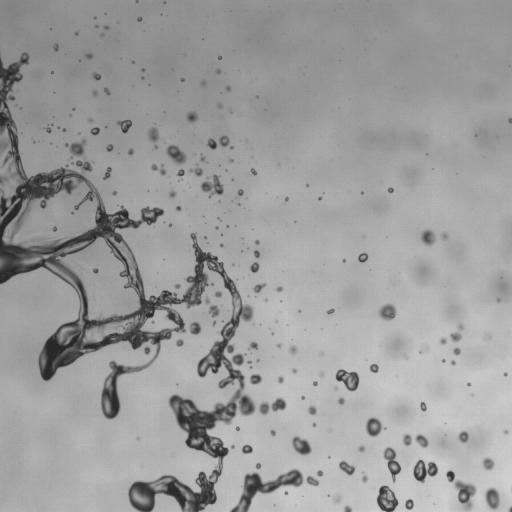droplet: (413, 458, 438, 483), (376, 485, 398, 511), (200, 174, 223, 198), (334, 369, 359, 391), (365, 416, 386, 437), (166, 144, 186, 165), (292, 435, 311, 455), (484, 487, 500, 509), (378, 303, 397, 321), (449, 323, 464, 342), (420, 229, 435, 246), (339, 460, 356, 475), (188, 163, 203, 177), (116, 120, 131, 133), (150, 163, 166, 175), (414, 434, 428, 447), (481, 457, 494, 470), (189, 321, 201, 334), (186, 111, 198, 123), (249, 374, 262, 385), (458, 430, 469, 443), (306, 475, 319, 486), (252, 283, 266, 293), (418, 342, 429, 354), (176, 168, 185, 182), (87, 60, 98, 71), (9, 109, 20, 120), (13, 123, 24, 134), (115, 142, 126, 153), (81, 150, 92, 161), (104, 152, 115, 163), (164, 157, 175, 168), (167, 161, 178, 172), (41, 163, 52, 174), (93, 164, 104, 175), (24, 167, 35, 178), (8, 177, 19, 188), (93, 178, 104, 189), (3, 186, 14, 197), (104, 203, 115, 214), (128, 209, 139, 220), (208, 231, 219, 242), (251, 272, 262, 283), (202, 286, 213, 297), (70, 296, 81, 307), (173, 302, 184, 313), (197, 302, 208, 313), (220, 310, 231, 321), (180, 329, 191, 340), (83, 349, 94, 360), (288, 354, 299, 365), (238, 363, 249, 374), (217, 366, 228, 377), (242, 384, 253, 395), (115, 386, 126, 397), (116, 390, 127, 401), (202, 401, 213, 412), (233, 411, 244, 422), (393, 442, 404, 453), (207, 456, 218, 467), (278, 463, 289, 474), (401, 465, 412, 476), (259, 472, 270, 483), (381, 474, 392, 485), (233, 485, 244, 496), (474, 489, 485, 500), (252, 491, 263, 502), (154, 492, 165, 503), (229, 494, 240, 505), (166, 495, 177, 506), (402, 434, 412, 446), (249, 262, 259, 273), (404, 499, 414, 510), (358, 252, 368, 262), (369, 363, 379, 373), (247, 341, 258, 350), (241, 444, 252, 453), (332, 493, 341, 504), (288, 345, 298, 354), (307, 405, 316, 415), (455, 503, 466, 511), (361, 471, 368, 483), (96, 16, 105, 25), (18, 64, 27, 73), (94, 80, 103, 89), (186, 103, 195, 112), (140, 131, 149, 140), (158, 143, 167, 152), (62, 147, 71, 156), (170, 196, 179, 205), (432, 229, 441, 238), (225, 268, 234, 277), (9, 274, 18, 283), (210, 296, 219, 305), (380, 296, 389, 305), (251, 311, 260, 320), (382, 318, 391, 327), (170, 331, 179, 340), (36, 339, 45, 348), (446, 339, 455, 348), (200, 346, 209, 355), (55, 366, 64, 375), (32, 368, 41, 377), (282, 370, 291, 379), (116, 373, 125, 382), (266, 395, 275, 404), (220, 396, 229, 405), (252, 398, 261, 407), (301, 399, 310, 408), (168, 414, 177, 423), (214, 419, 223, 428), (246, 465, 255, 474), (437, 467, 446, 476), (139, 473, 148, 482), (387, 481, 396, 490), (212, 483, 221, 492), (192, 484, 201, 493), (340, 497, 349, 506), (43, 123, 51, 133), (90, 127, 100, 135), (92, 72, 101, 80), (169, 188, 177, 197), (235, 189, 243, 198), (440, 232, 449, 240), (483, 332, 491, 341), (439, 336, 447, 345), (171, 505, 182, 511), (201, 505, 212, 511), (394, 505, 405, 511), (470, 505, 481, 511), (495, 505, 506, 511), (453, 347, 461, 355), (253, 249, 260, 258), (143, 346, 150, 355), (420, 401, 426, 411), (326, 308, 334, 315), (176, 338, 183, 346), (277, 375, 284, 383), (338, 397, 345, 405), (357, 445, 365, 452), (0, 164, 5, 175), (84, 53, 93, 59), (274, 286, 283, 292), (213, 291, 222, 297), (246, 360, 252, 369), (344, 505, 353, 511), (106, 144, 113, 151), (250, 168, 257, 175), (12, 55, 19, 62), (2, 61, 9, 68), (11, 81, 18, 88), (97, 89, 104, 96), (220, 107, 227, 114), (195, 110, 202, 117), (180, 114, 187, 121), (183, 119, 190, 126), (192, 119, 199, 126), (157, 130, 164, 137), (73, 136, 80, 143), (169, 138, 176, 145), (147, 140, 154, 147), (5, 143, 12, 150), (16, 143, 23, 150), (82, 144, 89, 151), (178, 144, 185, 151), (1, 149, 8, 156), (228, 150, 235, 157), (222, 160, 229, 167), (198, 161, 205, 168), (177, 162, 184, 169), (75, 166, 82, 173), (82, 170, 89, 177), (198, 175, 205, 182), (212, 192, 219, 199), (155, 201, 162, 208), (140, 221, 147, 228), (218, 222, 225, 229), (447, 230, 454, 237), (415, 231, 422, 238), (418, 240, 425, 247), (200, 245, 207, 252), (249, 255, 256, 262), (37, 266, 44, 273), (201, 266, 208, 273), (139, 271, 146, 278), (140, 274, 147, 281), (167, 285, 174, 292), (222, 288, 229, 295), (153, 290, 160, 297), (199, 293, 206, 300), (169, 303, 176, 310), (191, 303, 198, 310), (394, 306, 401, 313), (393, 313, 400, 320), (69, 314, 76, 321), (238, 317, 245, 324), (183, 322, 190, 329), (216, 322, 223, 329), (234, 326, 241, 333), (450, 326, 457, 333), (47, 328, 54, 335), (459, 329, 466, 336), (43, 332, 50, 339), (215, 334, 222, 341), (159, 338, 166, 345), (144, 339, 151, 346), (123, 340, 130, 347), (141, 340, 148, 347), (453, 340, 460, 347), (295, 342, 302, 349), (149, 343, 156, 350), (282, 343, 289, 350), (102, 344, 109, 351), (232, 347, 239, 354), (453, 354, 460, 361), (75, 356, 82, 363), (115, 358, 122, 365), (105, 367, 112, 374), (251, 367, 258, 374), (243, 376, 250, 383), (96, 385, 103, 392), (165, 390, 172, 397), (180, 392, 187, 399), (162, 398, 169, 405), (284, 399, 291, 406), (117, 407, 124, 414), (373, 412, 380, 419), (98, 413, 105, 420), (245, 413, 252, 420), (309, 414, 316, 421), (360, 418, 367, 425), (359, 424, 366, 431), (360, 427, 367, 434), (205, 428, 212, 435), (181, 431, 188, 438), (298, 432, 305, 439), (410, 438, 417, 445), (307, 439, 314, 446), (286, 442, 293, 449), (235, 443, 242, 450), (196, 449, 203, 456), (294, 451, 301, 458), (481, 451, 488, 458), (301, 453, 308, 460), (489, 453, 496, 460), (212, 456, 219, 463), (476, 456, 483, 463), (492, 462, 499, 469), (477, 463, 484, 470), (486, 468, 493, 475), (204, 469, 211, 476), (300, 471, 307, 478), (453, 473, 460, 480), (301, 480, 308, 487), (286, 483, 293, 490), (278, 484, 285, 491), (496, 488, 503, 495), (104, 87, 110, 95), (128, 147, 134, 155), (246, 506, 255, 511), (200, 80, 206, 87), (87, 117, 93, 124), (387, 186, 393, 193), (270, 429, 276, 436), (255, 462, 261, 469), (316, 470, 323, 476), (53, 43, 58, 51), (225, 85, 231, 91), (217, 102, 223, 108), (92, 267, 98, 273), (174, 283, 180, 289), (291, 368, 297, 374), (318, 371, 324, 377), (92, 90, 97, 97), (216, 68, 221, 74), (176, 205, 181, 211), (51, 226, 57, 231), (276, 343, 282, 348), (312, 381, 318, 386), (333, 385, 338, 391), (507, 369, 511, 376), (130, 507, 137, 511), (150, 507, 157, 511), (337, 507, 344, 511), (375, 507, 382, 511), (487, 507, 494, 511), (112, 190, 117, 195), (254, 239, 259, 244), (319, 351, 324, 356), (450, 360, 455, 365), (311, 422, 316, 427), (503, 429, 508, 434), (230, 444, 235, 449), (135, 12, 140, 17), (93, 18, 98, 23), (98, 26, 103, 31), (103, 29, 108, 34), (57, 45, 62, 50), (85, 48, 90, 53), (81, 56, 86, 61), (27, 57, 32, 62), (86, 58, 91, 63), (96, 69, 101, 74), (141, 71, 146, 76), (215, 73, 220, 78), (19, 78, 24, 83), (224, 80, 229, 85), (230, 85, 235, 90), (108, 87, 113, 92), (221, 88, 226, 93), (87, 91, 92, 96), (5, 99, 10, 104), (118, 116, 123, 121), (53, 121, 58, 126), (91, 122, 96, 127), (148, 122, 153, 127), (50, 125, 55, 130), (98, 125, 103, 130), (127, 126, 132, 131), (3, 128, 8, 133), (214, 138, 219, 143), (202, 139, 207, 144), (154, 140, 159, 145), (228, 140, 233, 145), (103, 141, 108, 146), (224, 145, 229, 150), (64, 146, 69, 151), (132, 146, 137, 151), (206, 146, 211, 151), (123, 147, 128, 152), (131, 152, 136, 157), (125, 153, 130, 158), (195, 153, 200, 158), (89, 162, 94, 167), (155, 162, 160, 167), (146, 163, 151, 168), (191, 164, 196, 169), (154, 169, 159, 174), (109, 170, 114, 175), (190, 171, 195, 176), (160, 174, 165, 179), (218, 178, 223, 183), (196, 185, 201, 190), (221, 185, 226, 190), (172, 186, 177, 191), (108, 187, 113, 192), (166, 187, 171, 192), (204, 190, 209, 195), (242, 191, 247, 196), (239, 194, 244, 199), (140, 203, 145, 208), (123, 204, 128, 209), (148, 204, 153, 209), (115, 206, 120, 211), (162, 210, 167, 215), (175, 210, 180, 215), (156, 215, 161, 220), (214, 220, 219, 225), (114, 227, 119, 232), (216, 228, 221, 233), (188, 239, 193, 244), (126, 240, 131, 245), (241, 244, 246, 249), (255, 245, 260, 250), (189, 247, 194, 252), (258, 249, 263, 254), (210, 251, 215, 256), (249, 251, 254, 256), (134, 255, 139, 260), (216, 257, 221, 262), (254, 257, 259, 262), (222, 264, 227, 269), (246, 268, 251, 273), (256, 268, 261, 273), (190, 271, 195, 276), (54, 275, 59, 280), (141, 278, 146, 283), (257, 279, 262, 284), (276, 281, 281, 286), (235, 285, 240, 290), (260, 287, 265, 292), (250, 290, 255, 295), (278, 290, 283, 295), (177, 294, 182, 299), (144, 295, 149, 300), (181, 301, 186, 306), (216, 304, 221, 309), (326, 304, 331, 309), (213, 315, 218, 320), (225, 316, 230, 321), (193, 317, 198, 322), (390, 317, 395, 322), (198, 322, 203, 327), (462, 322, 467, 327), (199, 328, 204, 333), (191, 333, 196, 338), (435, 336, 440, 341), (446, 336, 451, 341), (227, 339, 232, 344), (289, 340, 294, 345), (245, 341, 250, 346), (415, 345, 420, 350), (250, 347, 255, 352), (459, 349, 464, 354), (286, 351, 291, 356), (293, 352, 298, 357), (420, 352, 425, 357), (199, 353, 204, 358), (242, 356, 247, 361), (445, 358, 450, 363), (368, 359, 373, 364), (193, 360, 198, 365), (149, 363, 154, 368), (291, 363, 296, 368), (377, 366, 382, 371), (346, 367, 351, 372), (140, 368, 145, 373), (192, 368, 197, 373), (296, 369, 301, 374), (331, 370, 336, 375), (278, 371, 283, 376), (259, 373, 264, 378), (357, 373, 362, 378), (273, 375, 278, 380), (199, 376, 204, 381), (282, 377, 287, 382), (233, 378, 238, 383), (338, 380, 343, 385), (357, 380, 362, 385), (255, 382, 260, 387), (278, 382, 283, 387), (352, 389, 357, 394), (334, 394, 339, 399), (343, 399, 348, 404), (334, 401, 339, 406), (415, 402, 420, 407), (96, 403, 101, 408), (425, 403, 430, 408), (97, 407, 102, 412), (267, 407, 272, 412), (276, 408, 281, 413), (315, 408, 320, 413), (304, 410, 309, 415), (380, 421, 385, 426), (503, 424, 508, 429), (462, 426, 467, 431), (379, 428, 384, 433), (456, 428, 461, 433), (403, 429, 408, 434), (266, 432, 271, 437), (289, 433, 294, 438), (423, 433, 428, 438), (467, 434, 472, 439), (410, 435, 415, 440), (456, 439, 461, 444), (239, 441, 244, 446), (248, 441, 253, 446), (462, 441, 467, 446), (222, 442, 227, 447), (183, 444, 188, 449), (251, 446, 256, 451), (190, 447, 195, 452), (227, 448, 232, 453), (379, 448, 384, 453), (358, 451, 363, 456), (245, 452, 250, 457), (222, 455, 227, 460), (393, 456, 398, 461), (336, 457, 341, 462), (383, 458, 388, 463), (347, 460, 352, 465), (411, 460, 416, 465), (435, 462, 440, 467), (334, 463, 339, 468), (451, 467, 456, 472), (220, 468, 225, 473), (321, 468, 326, 473), (164, 470, 169, 475), (341, 470, 346, 475), (352, 470, 357, 475), (408, 470, 413, 475), (386, 471, 391, 476), (156, 472, 161, 477), (394, 473, 399, 478), (424, 473, 429, 478), (313, 474, 318, 479), (410, 475, 415, 480), (366, 477, 371, 482), (128, 479, 133, 484), (416, 480, 421, 485), (360, 481, 365, 486), (378, 481, 383, 486), (374, 490, 379, 495), (394, 493, 399, 498), (405, 494, 410, 499), (124, 496, 129, 501), (214, 499, 219, 504), (372, 499, 377, 504), (412, 499, 417, 504), (457, 501, 462, 506), (103, 25, 109, 29), (228, 158, 234, 162), (507, 505, 511, 511), (0, 156, 3, 163), (137, 17, 142, 21), (75, 30, 79, 35), (318, 196, 322, 201), (219, 243, 224, 247), (496, 298, 501, 302), (404, 354, 408, 359), (503, 372, 507, 377), (466, 382, 471, 386), (235, 426, 239, 431), (62, 128, 66, 132), (168, 223, 172, 227), (256, 358, 260, 362), (441, 358, 445, 362), (301, 395, 305, 399), (136, 436, 140, 440), (284, 491, 288, 495), (180, 78, 185, 81), (508, 118, 511, 123), (508, 113, 511, 118), (508, 122, 511, 127), (508, 429, 511, 434), (350, 508, 355, 511), (404, 508, 409, 511), (408, 508, 413, 511), (94, 24, 98, 27), (100, 33, 104, 36), (218, 56, 222, 59), (141, 68, 145, 71), (229, 109, 232, 113), (305, 184, 309, 187), (360, 191, 364, 194), (70, 211, 74, 214), (215, 226, 219, 229), (204, 235, 207, 239), (342, 259, 346, 262), (264, 298, 268, 301), (298, 309, 301, 313), (470, 393, 474, 396), (326, 494, 330, 497), (0, 191, 2, 196), (135, 0, 138, 3), (93, 16, 96, 19), (131, 60, 134, 63), (141, 76, 144, 79), (256, 95, 259, 98), (72, 107, 75, 110), (57, 126, 60, 129), (77, 132, 80, 135), (474, 134, 477, 137), (33, 140, 36, 143), (231, 178, 234, 181), (294, 220, 297, 223), (226, 225, 229, 228), (220, 233, 223, 236), (271, 332, 274, 335), (162, 3, 165, 6), (92, 13, 95, 16), (103, 14, 106, 17), (141, 18, 144, 21), (137, 21, 140, 24), (104, 22, 107, 25), (94, 27, 97, 30), (74, 28, 77, 31), (77, 31, 80, 34), (73, 34, 76, 37), (50, 47, 53, 50), (218, 52, 221, 55), (214, 56, 217, 59), (221, 56, 224, 59), (132, 57, 135, 60), (218, 59, 221, 62), (128, 60, 131, 63), (131, 63, 134, 66), (139, 65, 142, 68), (142, 65, 145, 68), (50, 67, 53, 70), (219, 67, 222, 70), (47, 70, 50, 73), (53, 70, 56, 73), (220, 70, 223, 73), (50, 73, 53, 76), (181, 74, 184, 77), (137, 76, 140, 79), (99, 77, 102, 80), (96, 79, 99, 82), (140, 79, 143, 82), (181, 81, 184, 84), (256, 92, 259, 95), (71, 104, 74, 107), (70, 110, 73, 113), (505, 119, 508, 122), (131, 121, 134, 124), (44, 124, 47, 127), (48, 124, 51, 127), (152, 124, 155, 127), (59, 127, 62, 130), (65, 127, 68, 130), (43, 128, 46, 131), (87, 128, 90, 131), (118, 128, 121, 131), (98, 130, 101, 133), (45, 131, 48, 134), (62, 131, 65, 134), (89, 132, 92, 135), (95, 133, 98, 136), (92, 134, 95, 137), (34, 138, 37, 141), (29, 140, 32, 143), (34, 141, 37, 144), (68, 142, 71, 145), (103, 147, 106, 150), (153, 148, 156, 151), (231, 148, 234, 151), (425, 149, 428, 152), (109, 150, 112, 153), (231, 156, 234, 159), (204, 157, 207, 160), (233, 159, 236, 162), (109, 164, 112, 167), (254, 168, 257, 171), (103, 169, 106, 172), (215, 172, 218, 175), (101, 173, 104, 176), (250, 173, 253, 176), (105, 177, 108, 180), (179, 180, 182, 183), (306, 180, 309, 183), (308, 183, 311, 186), (302, 184, 305, 187), (391, 185, 394, 188), (240, 186, 243, 189), (113, 187, 116, 190), (384, 187, 387, 190), (357, 190, 360, 193), (363, 191, 366, 194), (386, 191, 389, 194), (391, 191, 394, 194), (234, 192, 237, 195), (112, 194, 115, 197), (283, 194, 286, 197), (287, 194, 290, 197), (315, 195, 318, 198), (281, 198, 284, 201), (287, 198, 290, 201), (319, 199, 322, 202), (175, 203, 178, 206), (240, 203, 243, 206), (236, 205, 239, 208), (180, 206, 183, 209), (216, 213, 219, 216), (219, 216, 222, 219), (226, 221, 229, 224), (165, 222, 168, 225), (171, 224, 174, 227), (212, 227, 215, 230), (226, 227, 229, 230), (192, 229, 195, 232), (222, 232, 225, 235), (206, 235, 209, 238), (255, 236, 258, 239), (240, 239, 243, 242), (258, 239, 261, 242), (220, 240, 223, 243), (223, 243, 226, 246), (237, 249, 240, 252), (359, 250, 362, 253), (364, 250, 367, 253), (355, 255, 358, 258), (339, 258, 342, 261), (345, 258, 348, 261), (364, 259, 367, 262), (361, 261, 364, 264), (234, 263, 237, 266), (137, 266, 140, 269), (65, 282, 68, 285), (163, 287, 166, 290), (498, 295, 501, 298), (267, 297, 270, 300), (276, 299, 279, 302), (498, 301, 501, 304), (279, 302, 282, 305), (294, 308, 297, 311), (300, 308, 303, 311), (323, 311, 326, 314), (296, 312, 299, 315), (331, 312, 334, 315), (208, 313, 211, 316), (327, 313, 330, 316), (209, 321, 212, 324), (268, 330, 271, 333), (272, 334, 275, 337), (278, 340, 281, 343), (256, 344, 259, 347), (178, 345, 181, 348), (276, 347, 279, 350), (416, 352, 419, 355), (439, 356, 442, 359), (438, 359, 441, 362), (258, 360, 261, 363), (376, 362, 379, 365), (504, 369, 507, 372), (371, 371, 374, 374), (500, 372, 503, 375), (502, 375, 505, 378), (313, 378, 316, 381), (466, 379, 469, 382), (309, 380, 312, 383), (470, 382, 473, 385), (313, 385, 316, 388), (466, 385, 469, 388), (304, 395, 307, 398), (298, 396, 301, 399), (301, 399, 304, 402), (424, 401, 427, 404), (419, 409, 422, 412), (309, 422, 312, 425), (315, 422, 318, 425), (311, 426, 314, 429), (239, 427, 242, 430), (272, 427, 275, 430), (274, 431, 277, 434), (500, 431, 503, 434), (504, 433, 507, 436), (327, 452, 330, 455), (324, 455, 327, 458), (418, 456, 421, 459), (259, 461, 262, 464), (319, 467, 322, 470), (199, 468, 202, 471), (195, 474, 198, 477), (217, 475, 220, 478), (329, 492, 332, 495), (284, 494, 287, 497), (324, 495, 327, 498), (328, 496, 331, 499), (163, 1, 166, 3), (79, 59, 81, 62), (51, 71, 53, 74), (14, 104, 17, 106), (19, 107, 22, 109), (104, 126, 107, 128), (49, 142, 52, 144), (425, 153, 428, 155), (218, 200, 220, 203), (237, 203, 240, 205), (241, 237, 244, 239), (241, 249, 243, 252), (232, 263, 234, 266), (247, 294, 249, 297), (275, 320, 277, 323), (176, 383, 178, 386), (160, 13, 162, 15), (163, 111, 165, 113), (69, 114, 71, 116), (51, 123, 53, 125), (218, 164, 220, 166), (225, 169, 227, 171), (245, 197, 247, 199), (163, 221, 165, 223), (247, 247, 249, 249), (236, 278, 238, 280), (280, 300, 282, 302), (221, 320, 223, 322), (259, 323, 261, 325), (328, 456, 330, 458), (132, 0, 135, 1), (137, 0, 140, 1), (161, 0, 164, 1), (164, 0, 167, 1), (0, 184, 1, 187), (104, 13, 106, 14), (148, 84, 150, 85), (147, 190, 149, 191), (207, 242, 209, 243), (163, 258, 164, 260), (444, 434, 446, 435), (433, 502, 434, 504), (273, 504, 275, 505), (117, 204, 118, 205), (269, 328, 270, 329), (321, 328, 322, 329)
ligament: (383, 446, 401, 483), (258, 397, 286, 415), (206, 135, 234, 149), (204, 295, 219, 317), (147, 127, 161, 149), (102, 166, 111, 180), (199, 153, 208, 163), (282, 196, 289, 203), (217, 217, 222, 222), (212, 320, 215, 327), (510, 487, 511, 491), (86, 271, 89, 272), (203, 215, 204, 217), (445, 422, 446, 424)
